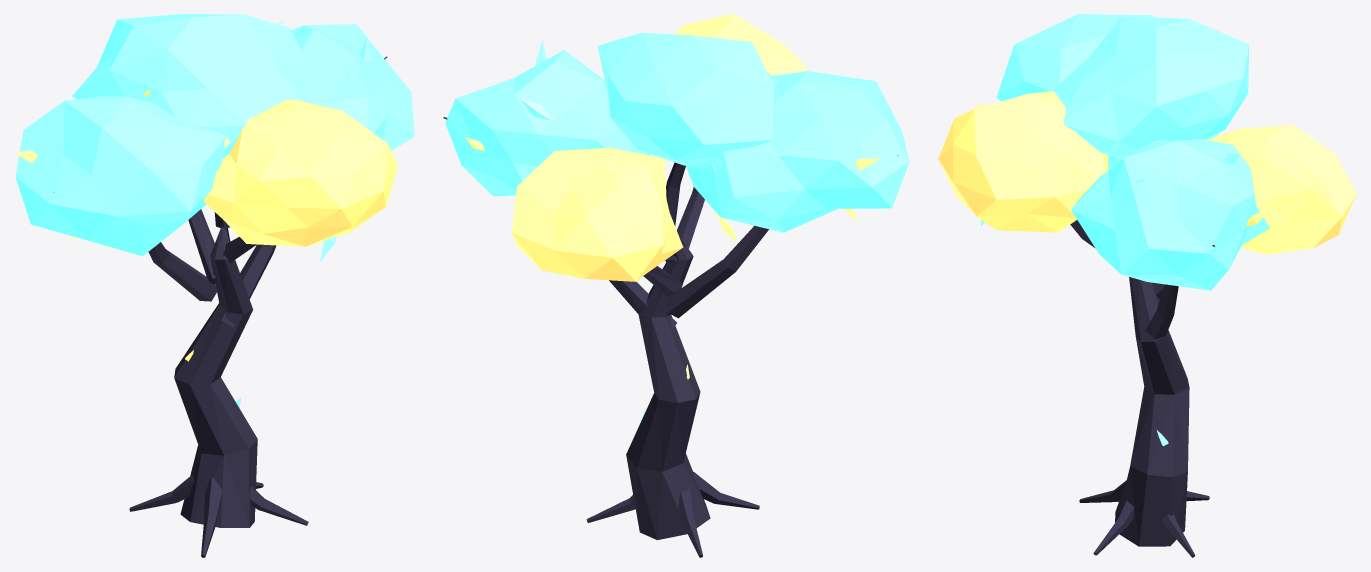
The model's file is glow_tree.glb.
The picture shows the model from 3 angles, left to right: view 1: azimuth 30°, elevation 25°; view 2: azimuth 150°, elevation 25°; view 3: azimuth 270°, elevation 25°; orthographic projection. The views are drawn at different scales.
Parts seen in each view (by area): view 1: glow_tree; view 2: glow_tree; view 3: glow_tree.
Part boxes in pixels (bbox=[...]): glow_tree: bbox=[15, 14, 414, 557]; glow_tree: bbox=[443, 14, 909, 557]; glow_tree: bbox=[938, 14, 1356, 557].
Size of the model in its own units: 5.66 by 6.77 by 5.18.
